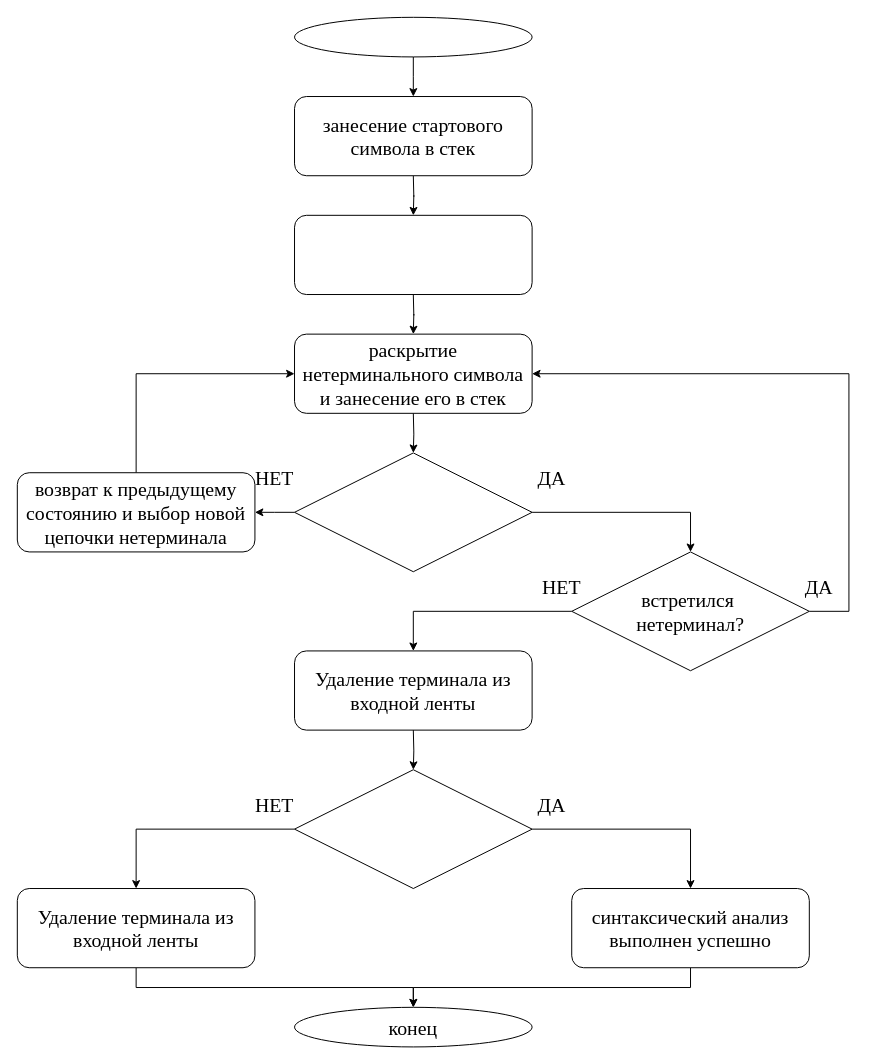
The diagram is 874 pixels wide and 1064 high, and some of its shapes have lost their labels. Here are the shapes that lost their labels. From the top down, the box of each, then its label:
(294, 16, 532, 57): начало
(294, 214, 532, 295): формирование входной ленты
(294, 452, 532, 572): терминал в начале ленты и на вершине стека совпадают?
(294, 769, 532, 889): достигнуто дно стека и входная цепочка пуста?
